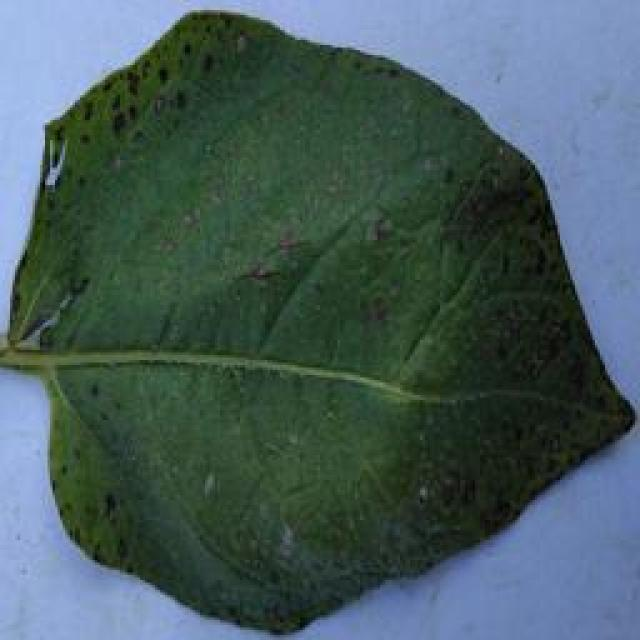Potato_Early_Blight: (26, 15, 640, 612)
